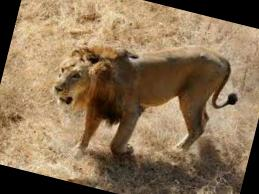lions: (21, 20, 259, 194)
